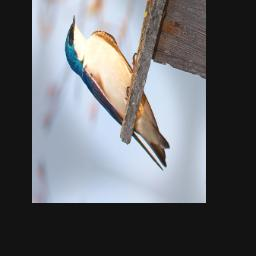Swallow: (55, 12, 182, 174)
